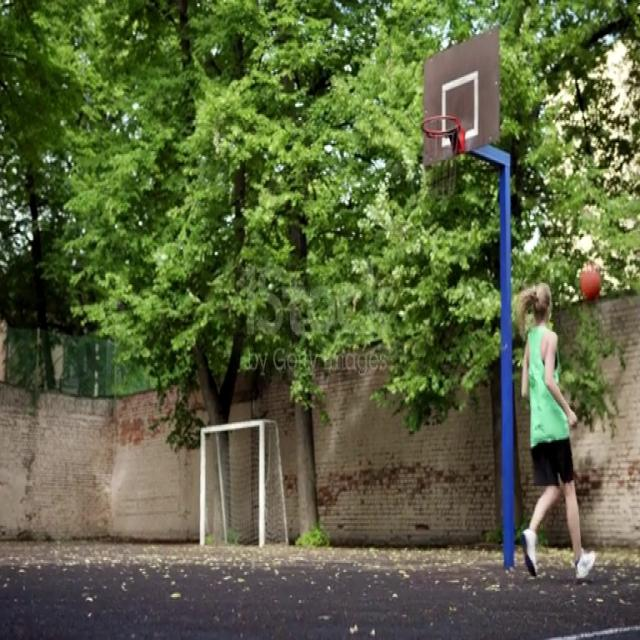ball: (579, 262, 601, 304)
